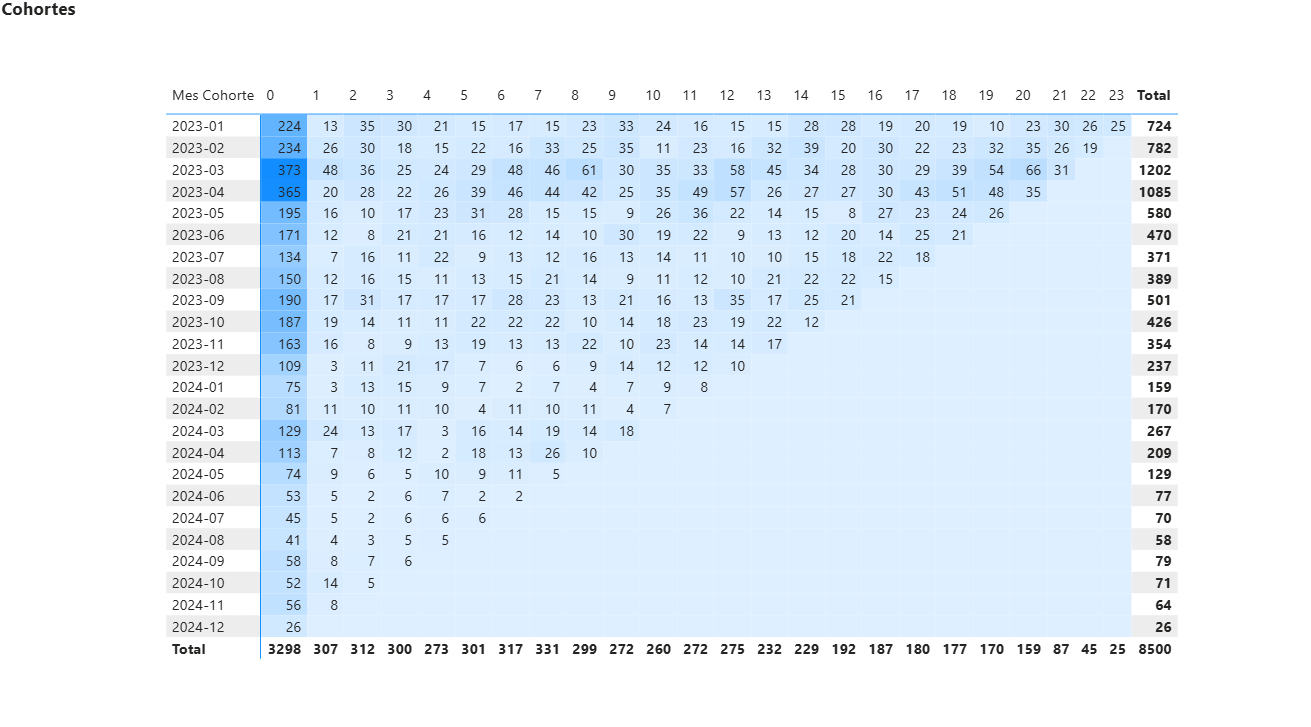

This screenshot's page, from the dashboard's own definition file:
{"tool":"powerbi","page":{"name":"Análisis Cohortes","canvas":[1280,720],"ordinal":2},"visuals":[{"type":"pivotTable","fields":{"Rows":["hecho_ventas_propiedades.Mes Cohorte"],"Columns":["hecho_ventas_propiedades.Meses desde inicio"],"Values":["hecho_ventas_propiedades.Cantidad de Ventas"]},"box":[151.3,79.8,976.6,559.8],"z":0},{"type":"textbox","box":[0,0,299.9,44],"z":2}]}

Visuals, with their boxes in screenshot pixels (x1, y1, x2, y2), scaled from the page's 1280x720 canvas onto the 1311x727 screenshot:
pivotTable - hecho_ventas_propiedades.Mes Cohorte x hecho_ventas_propiedades.Meses desde inicio: [155, 81, 1155, 646]
textbox: [0, 0, 307, 44]
